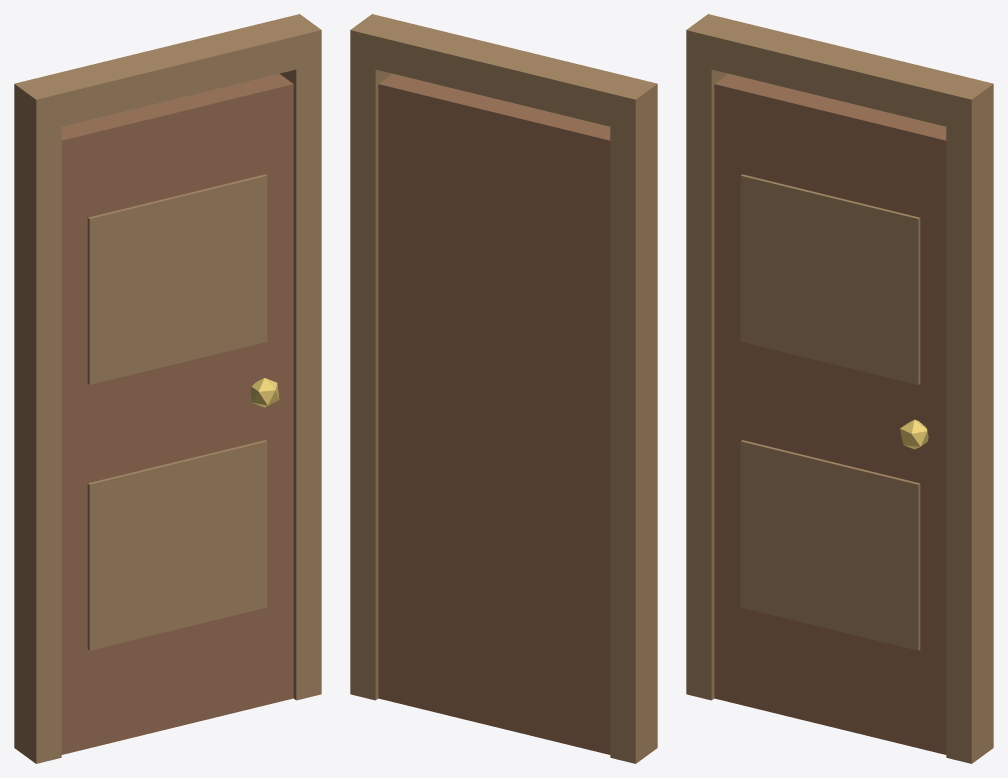
File: kit_door.glb
3 renders of one model, left to right at view 1: azimuth 30°, elevation 25°; view 2: azimuth 150°, elevation 25°; view 3: azimuth 330°, elevation 25°, orthographic.
Parts seen in each view (by area): view 1: leaf, jamb_0, panel_top, panel_bottom, jamb_1, lintel, knob; view 2: leaf, jamb_0, jamb_1, lintel; view 3: leaf, jamb_1, panel_top, panel_bottom, jamb_0, lintel, knob.
Boxes of the visible parts, x1,y1,x2,y2 form: leaf: (61, 73, 293, 754); jamb_0: (14, 77, 61, 763); panel_top: (87, 174, 267, 384); panel_bottom: (87, 440, 267, 650); jamb_1: (275, 14, 321, 700); lintel: (14, 14, 321, 131); knob: (250, 378, 279, 407); leaf: (378, 73, 610, 754); jamb_0: (610, 77, 657, 763); jamb_1: (350, 14, 396, 700); lintel: (350, 14, 657, 132); leaf: (714, 73, 946, 754); jamb_1: (946, 78, 993, 763); panel_top: (740, 174, 920, 384); panel_bottom: (740, 440, 920, 650); jamb_0: (686, 14, 732, 700); lintel: (686, 14, 993, 130); knob: (900, 419, 928, 449).
Bounding box in the file's own units: 0.9 × 2 × 0.1583.
